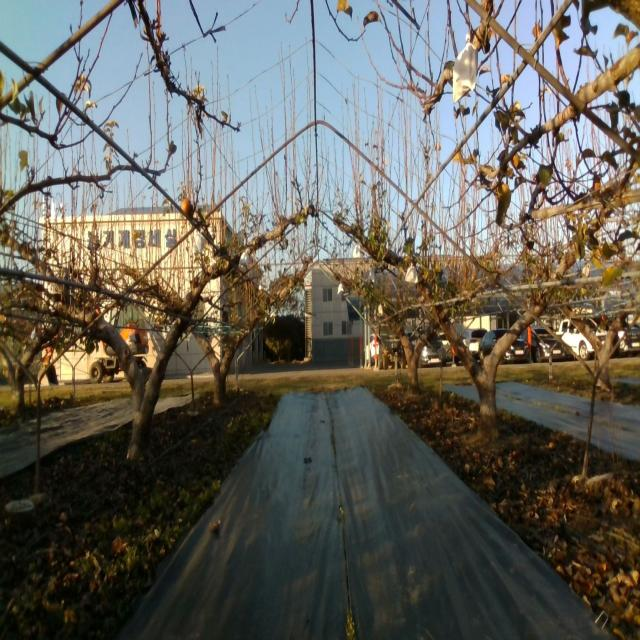pearbags: (452, 33, 478, 103), (193, 228, 205, 256), (404, 261, 418, 284), (239, 248, 250, 270)
